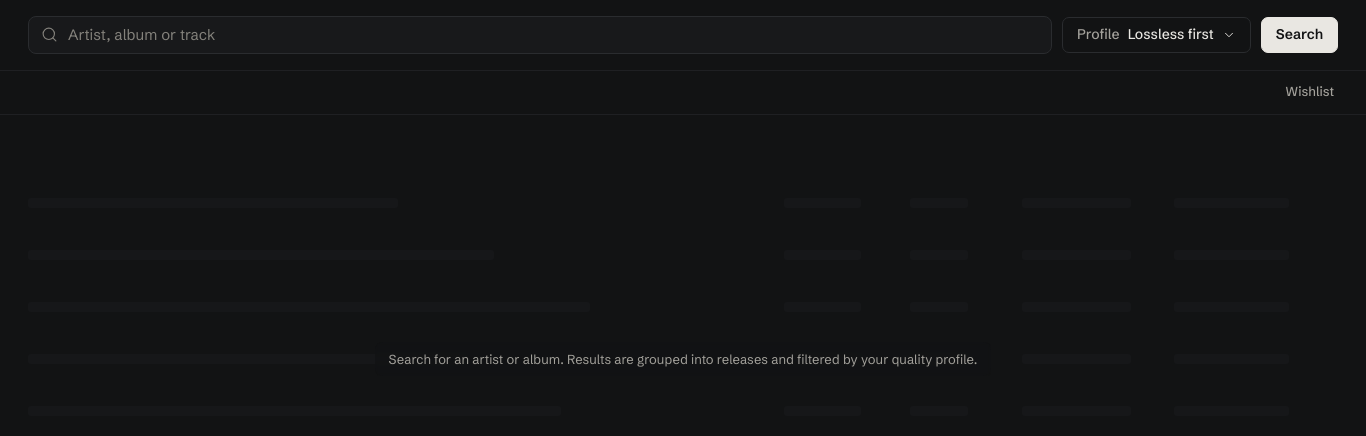
Search results › shows the error inline when starting a search fails
Type "anything" into the dropdown named "Search the network" at [554, 34], box [68, 24, 1039, 45]
Then press Enter
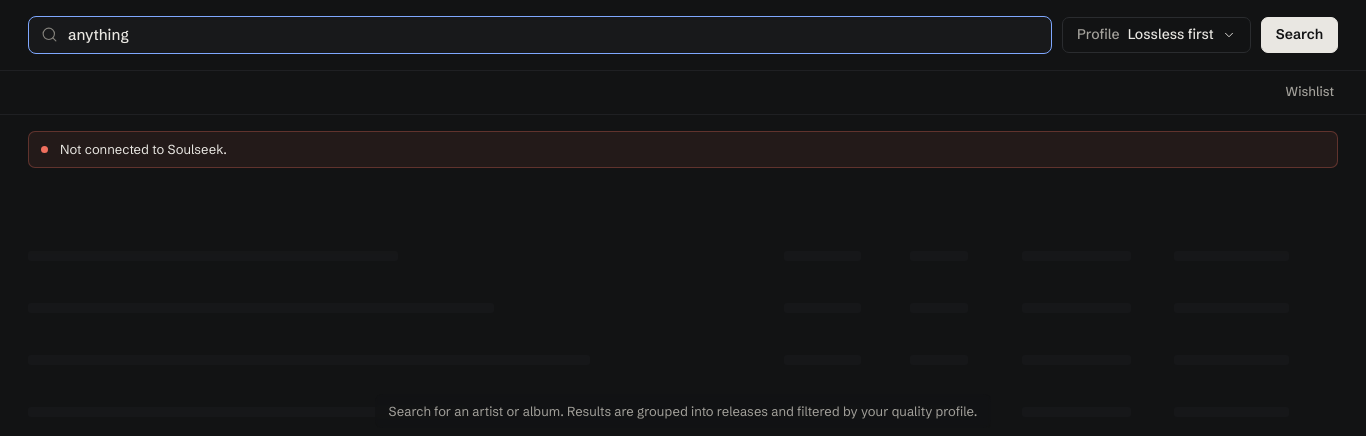
Expected: the message reads "Not connected to Soulseek.", [60, 141, 227, 157]
